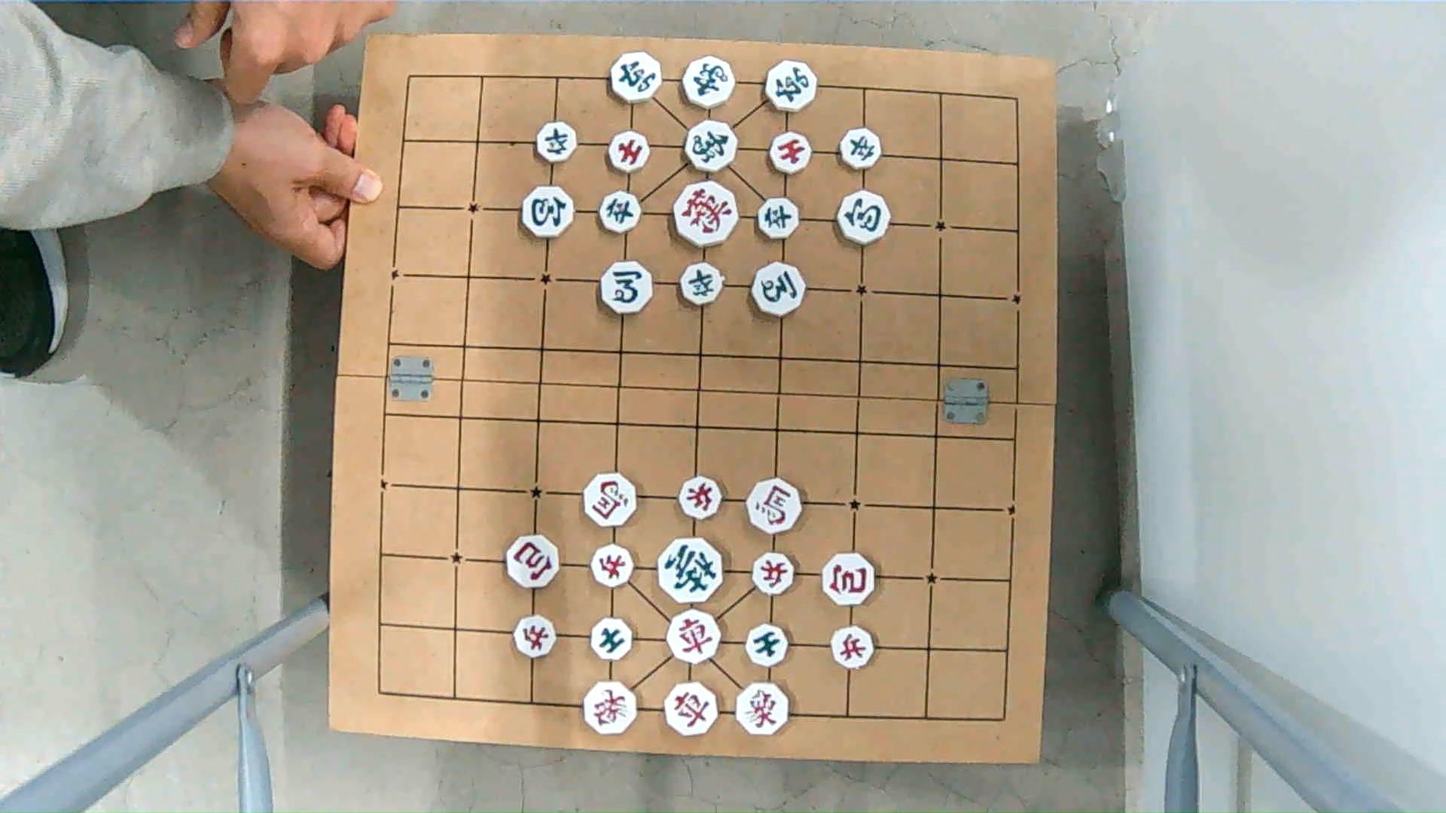cha_green: (764, 63, 822, 111), (608, 53, 664, 100)
cha_red: (664, 685, 721, 735), (664, 614, 721, 662)
jol_green: (681, 263, 724, 306), (755, 199, 801, 239), (599, 190, 642, 232), (838, 129, 883, 169), (536, 122, 581, 161)
jol_red: (679, 477, 727, 518), (752, 555, 800, 595), (830, 627, 878, 665), (587, 546, 636, 583), (511, 619, 558, 656)
ma_green: (597, 261, 656, 312), (752, 264, 810, 315)
ma_red: (749, 479, 804, 536), (581, 475, 641, 525)
po_green: (837, 194, 894, 244), (520, 185, 576, 234)
po_red: (817, 553, 877, 606), (504, 536, 562, 585)
sa_green: (743, 626, 793, 664), (589, 620, 636, 659)
sa_red: (606, 132, 654, 171), (770, 131, 811, 174)
sang_green: (681, 123, 740, 170), (683, 55, 734, 106)
sang_red: (580, 684, 641, 734), (732, 686, 790, 734)
wang_green: (656, 542, 726, 601)
wang_red: (670, 182, 740, 245)
